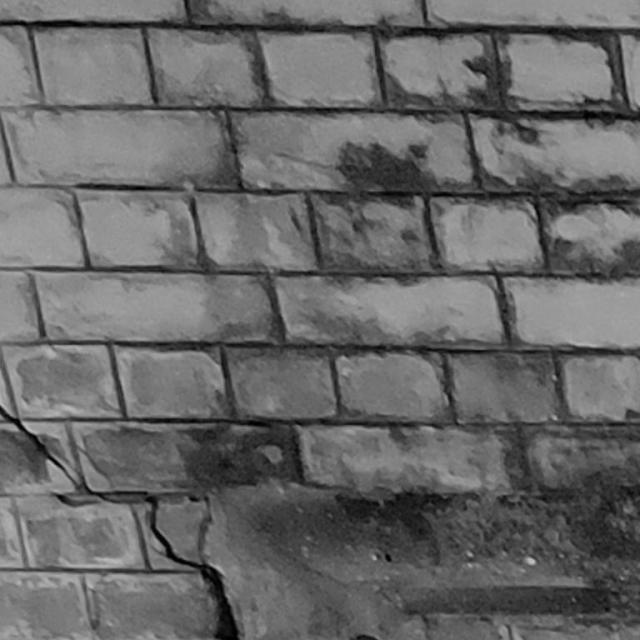crack: (1, 404, 239, 640)
